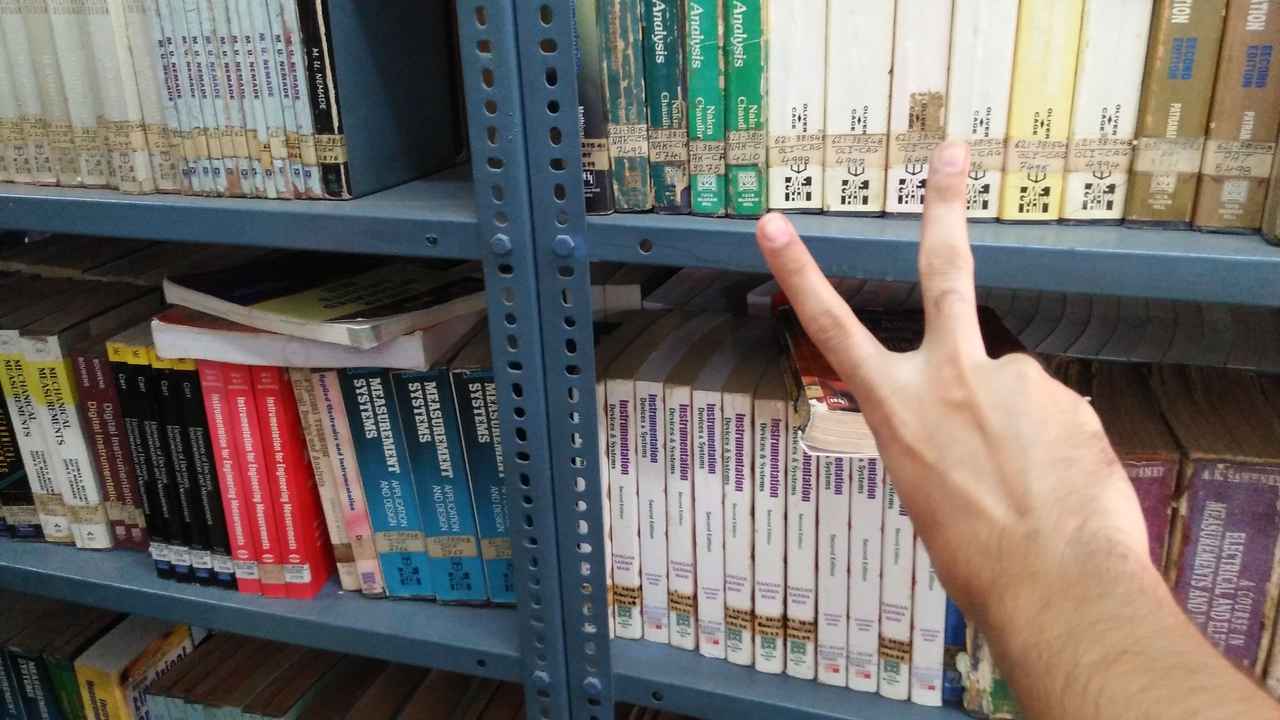fingertip: (750, 202, 804, 254), (930, 128, 982, 182)
